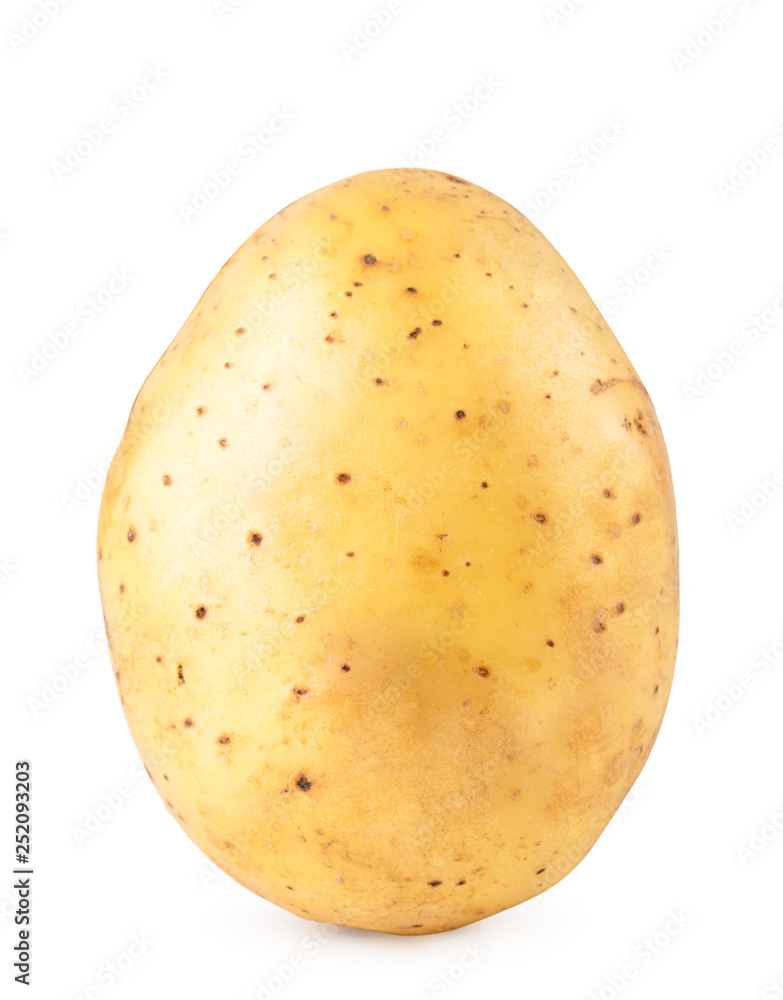potato: (73, 131, 703, 921)
